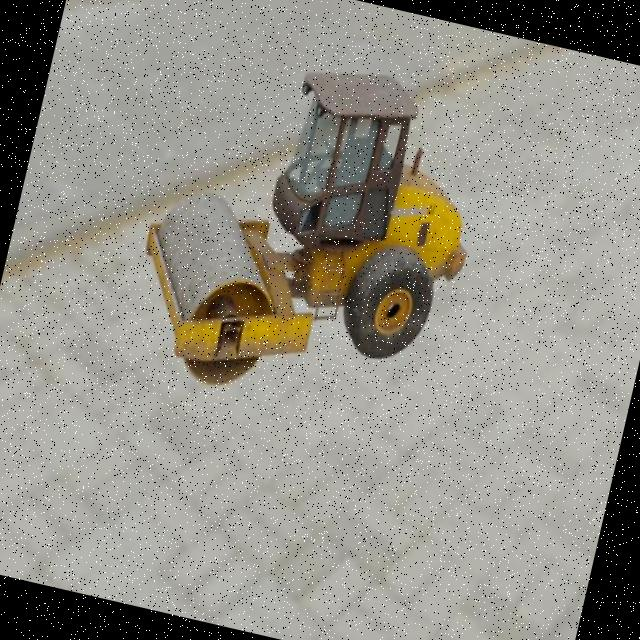Roller: (116, 28, 502, 434)
